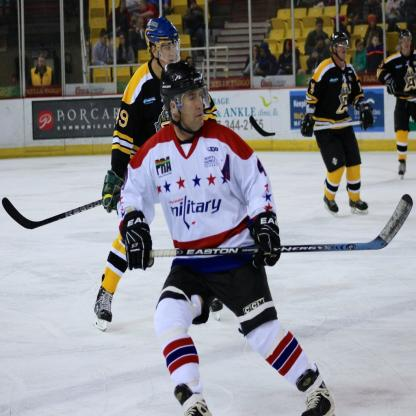Helmet: (162, 63, 213, 132), (139, 17, 177, 59), (330, 34, 350, 60), (402, 29, 412, 56)
